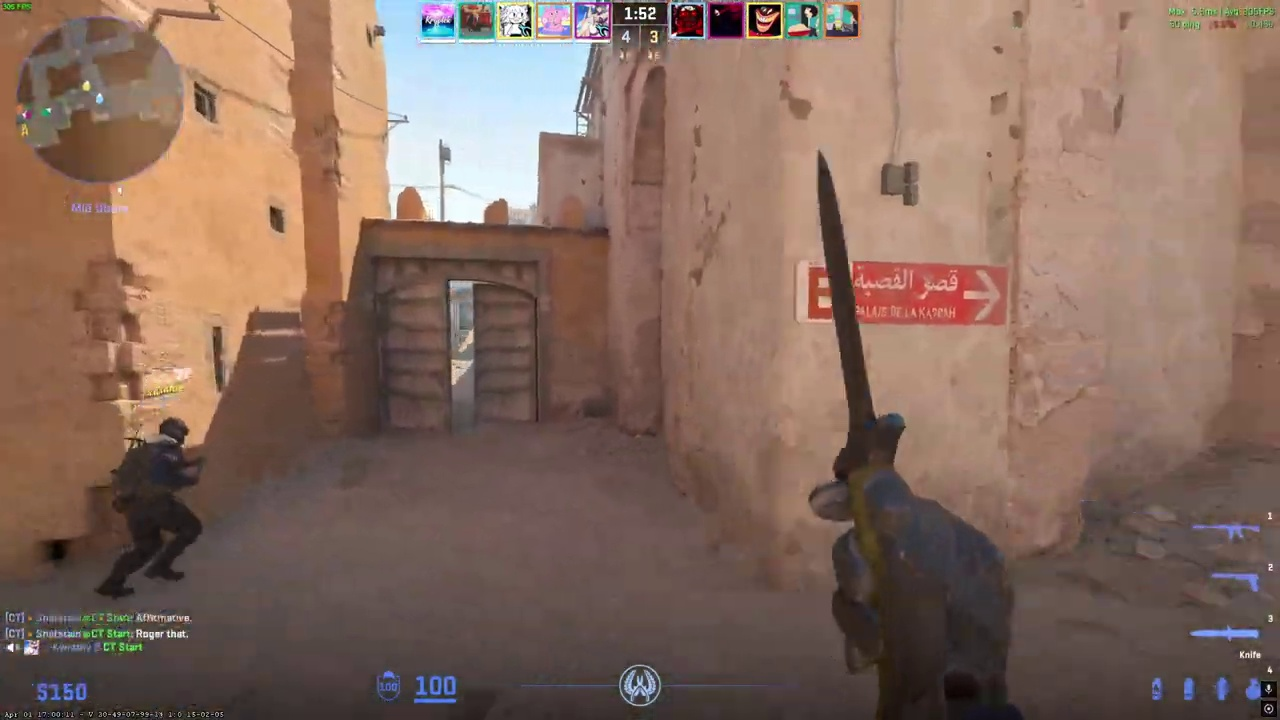CT: (95, 417, 206, 599)
